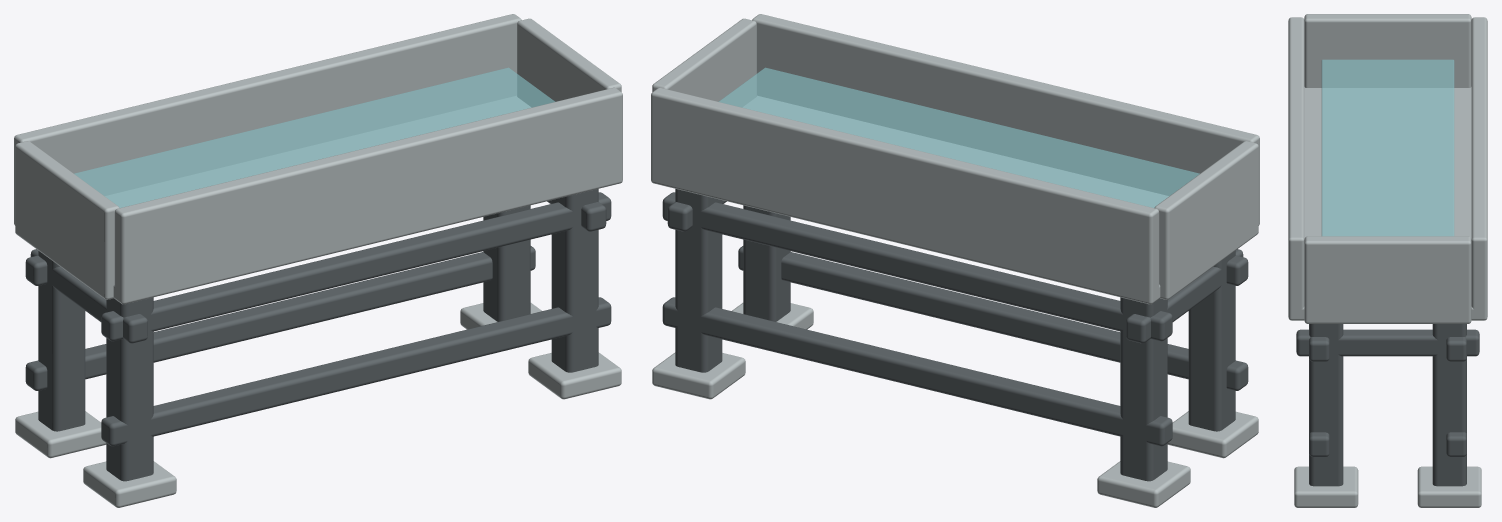
The model's file is glassblowing-studio-and-gallery-tool-cooling-trough-d8525c2c__29611.glb.
3 views of the same model, side by side, from view 1: azimuth 30°, elevation 25°; view 2: azimuth 150°, elevation 25°; view 3: azimuth 270°, elevation 25° (orthographic). The views are drawn at different scales.
Visible parts, largest first — view 1: tool-cooling-trough; view 2: tool-cooling-trough; view 3: tool-cooling-trough.
Boxes of the visible parts, left/top/right/bottom form: tool-cooling-trough: left=14, top=14, right=622, bottom=507; tool-cooling-trough: left=651, top=14, right=1259, bottom=507; tool-cooling-trough: left=1288, top=14, right=1487, bottom=507.
Bounding box in the file's own units: 1.18 × 0.65 × 0.435.
